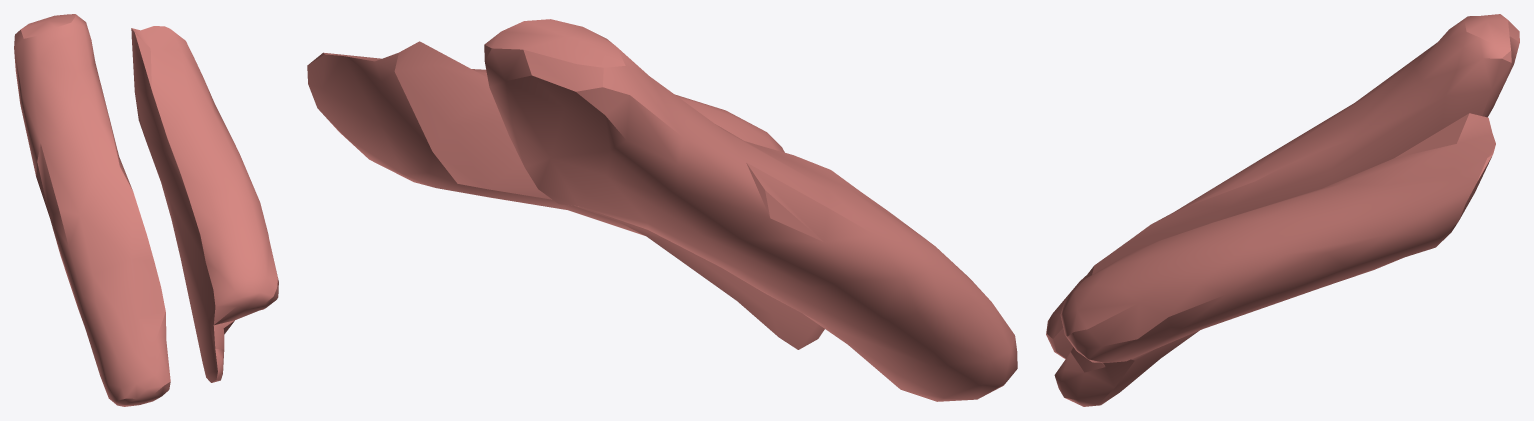
The model's file is fma42598_mm1947.glb.
The picture shows the model from 3 angles, left to right: view 1: azimuth 30°, elevation 25°; view 2: azimuth 150°, elevation 25°; view 3: azimuth 270°, elevation 25°; orthographic projection. The views are drawn at different scales.
Parts seen in each view (by area): view 1: FMA42598_MM1947; view 2: FMA42598_MM1947; view 3: FMA42598_MM1947.
Boxes of the visible parts, left/top/right/bottom form: FMA42598_MM1947: left=14, top=14, right=278, bottom=406; FMA42598_MM1947: left=307, top=19, right=1017, bottom=401; FMA42598_MM1947: left=1046, top=14, right=1519, bottom=406.
Bounding box in the file's own units: 0.0114 × 0.0134 × 0.0152.
